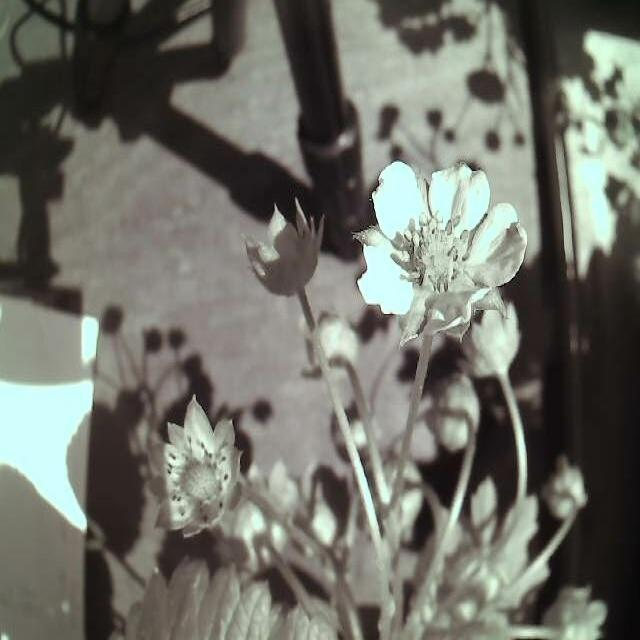flower: (350, 150, 536, 341)
